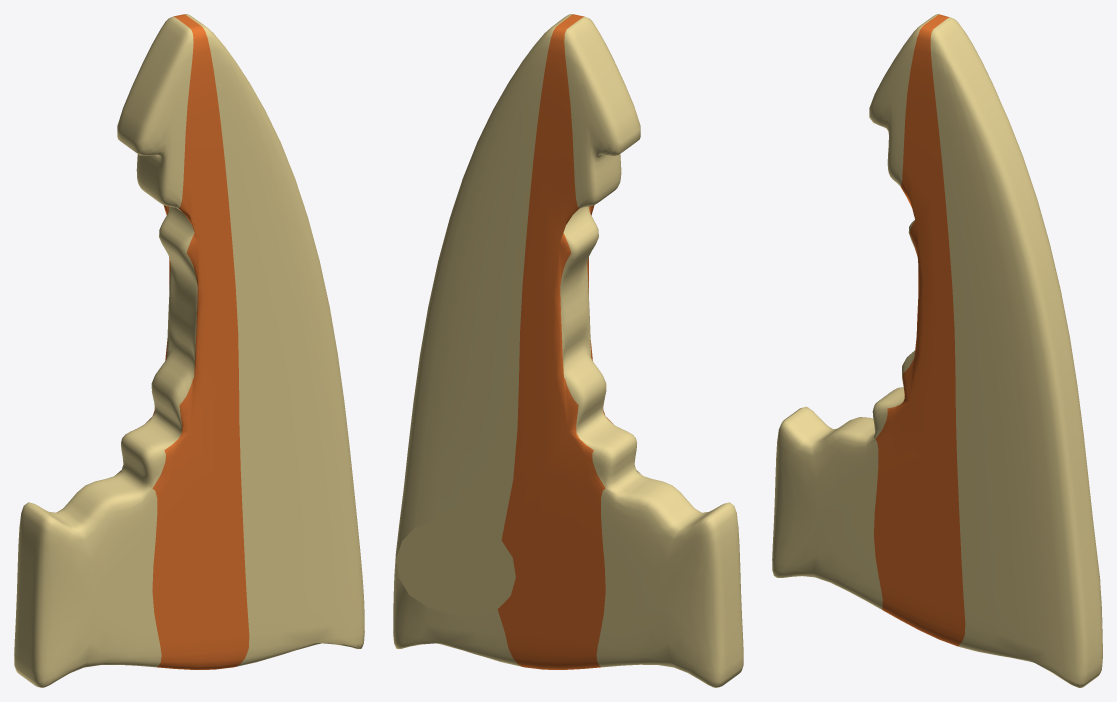
File: Surf Board Top.fbx
3 views of the same model, side by side, from view 1: azimuth 30°, elevation 25°; view 2: azimuth 150°, elevation 25°; view 3: azimuth 330°, elevation 25° (orthographic). The views are drawn at different scales.
Visible parts, largest first — view 1: Surf Board Top; view 2: Surf Board Top; view 3: Surf Board Top.
Boxes of the visible parts, bbox=[...] form: Surf Board Top: bbox=[14, 14, 364, 687]; Surf Board Top: bbox=[393, 14, 743, 687]; Surf Board Top: bbox=[772, 14, 1102, 687].
Size of the model in its own units: 0.9498 by 1.81 by 0.15.
